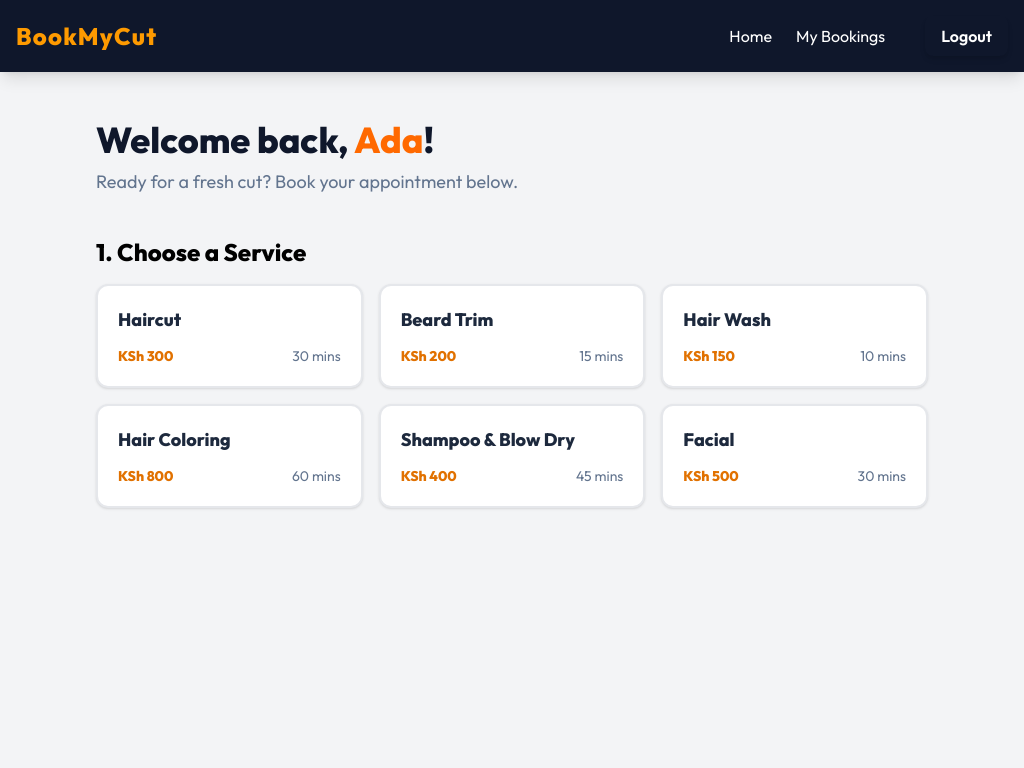
Test: Home page › loads available slots from Firestore when the API fails
The image size is (1024, 768).
Click the heading "Haircut": (150, 320) x1=118 y1=308 x2=181 y2=331
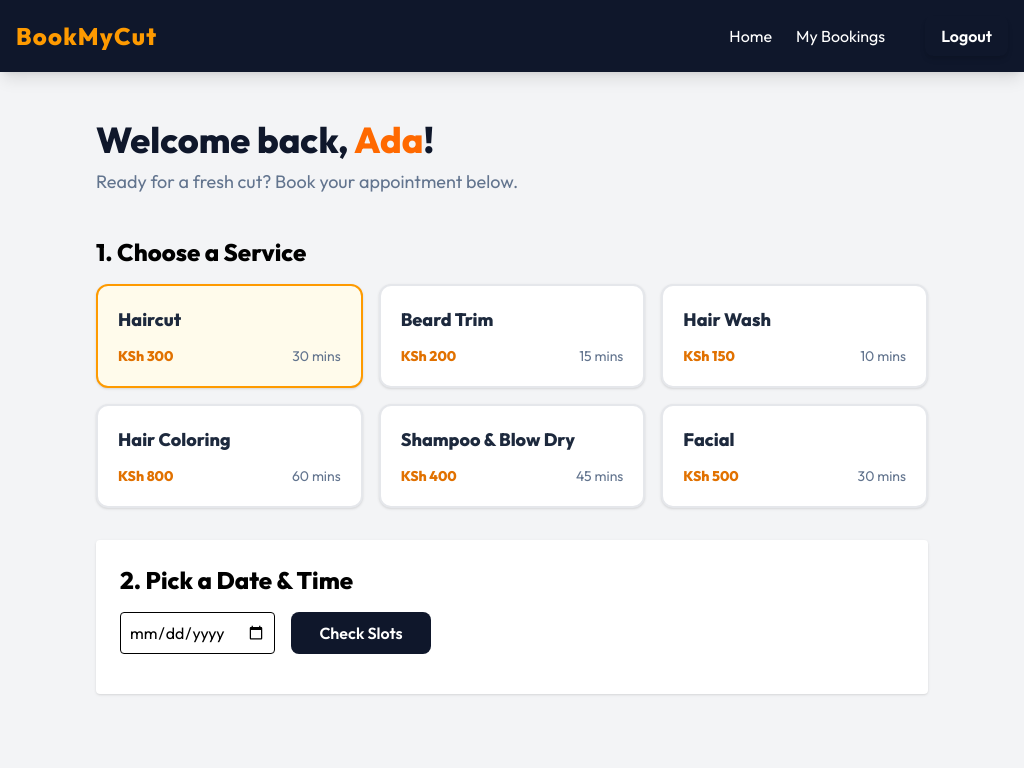
In the date field: (198, 633) x1=120 y1=612 x2=275 y2=654, type "2026-12-02"
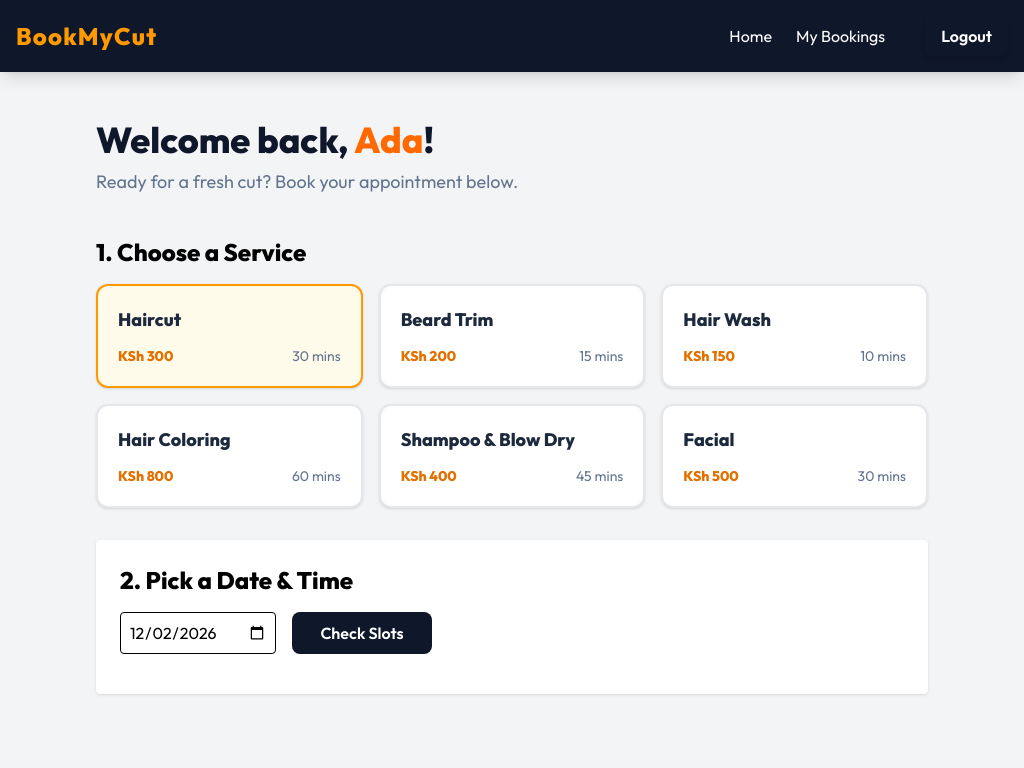
Click the button "Check Slots": (362, 633) x1=292 y1=612 x2=432 y2=654
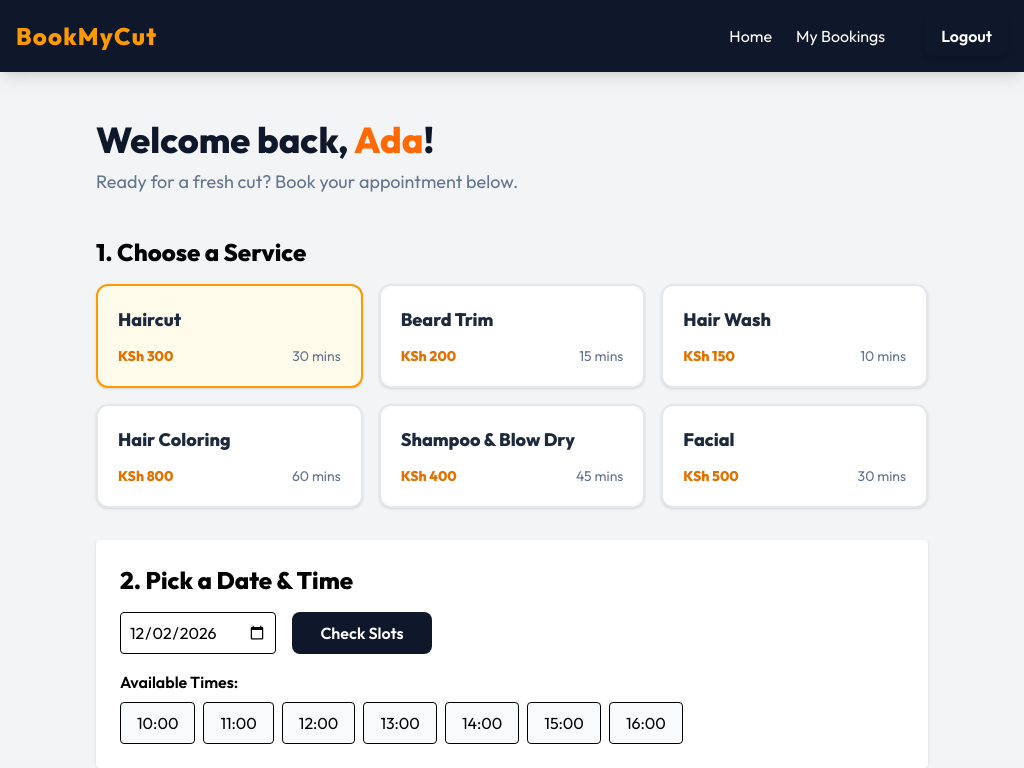
Now the button "10:00" is shown, box x1=120 y1=702 x2=195 y2=744
